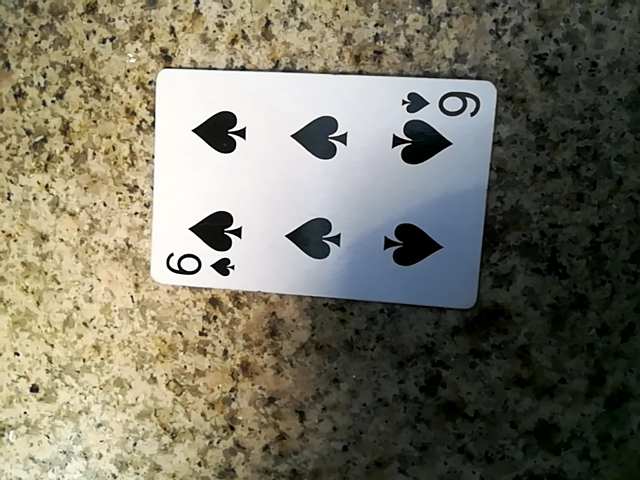ht 6: (151, 75, 490, 309)
